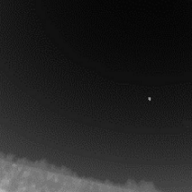Target: (146, 96, 150, 101)
